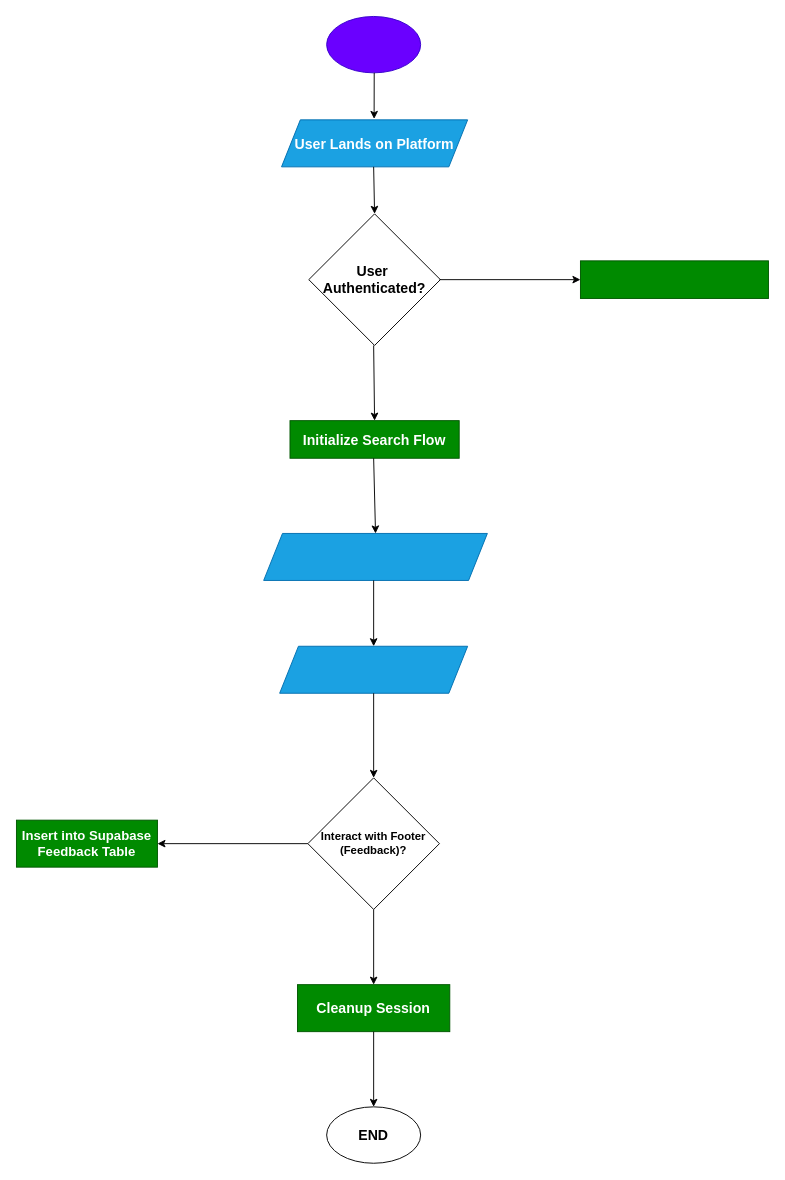
The diagram is 785 pixels wide and 1180 high, and some of its shapes have lost their labels. The box of each missing label's shape, as (x1, y1, x2, y2) in pixels:
Display Mechanic List: (279, 645, 468, 693)
START: (326, 16, 421, 73)
Supabase Auth Flow: (580, 260, 768, 298)
User Selects Vehicle & City: (263, 533, 487, 580)
